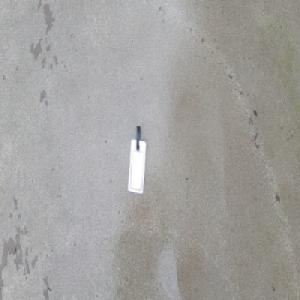LuggageTag: (126, 126, 147, 198)
